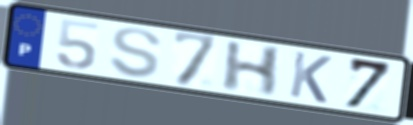5: (54, 16, 102, 71)
7: (171, 29, 222, 90), (342, 56, 395, 111)
H: (219, 40, 285, 99)
K: (286, 49, 334, 106)
S: (106, 26, 164, 80)
